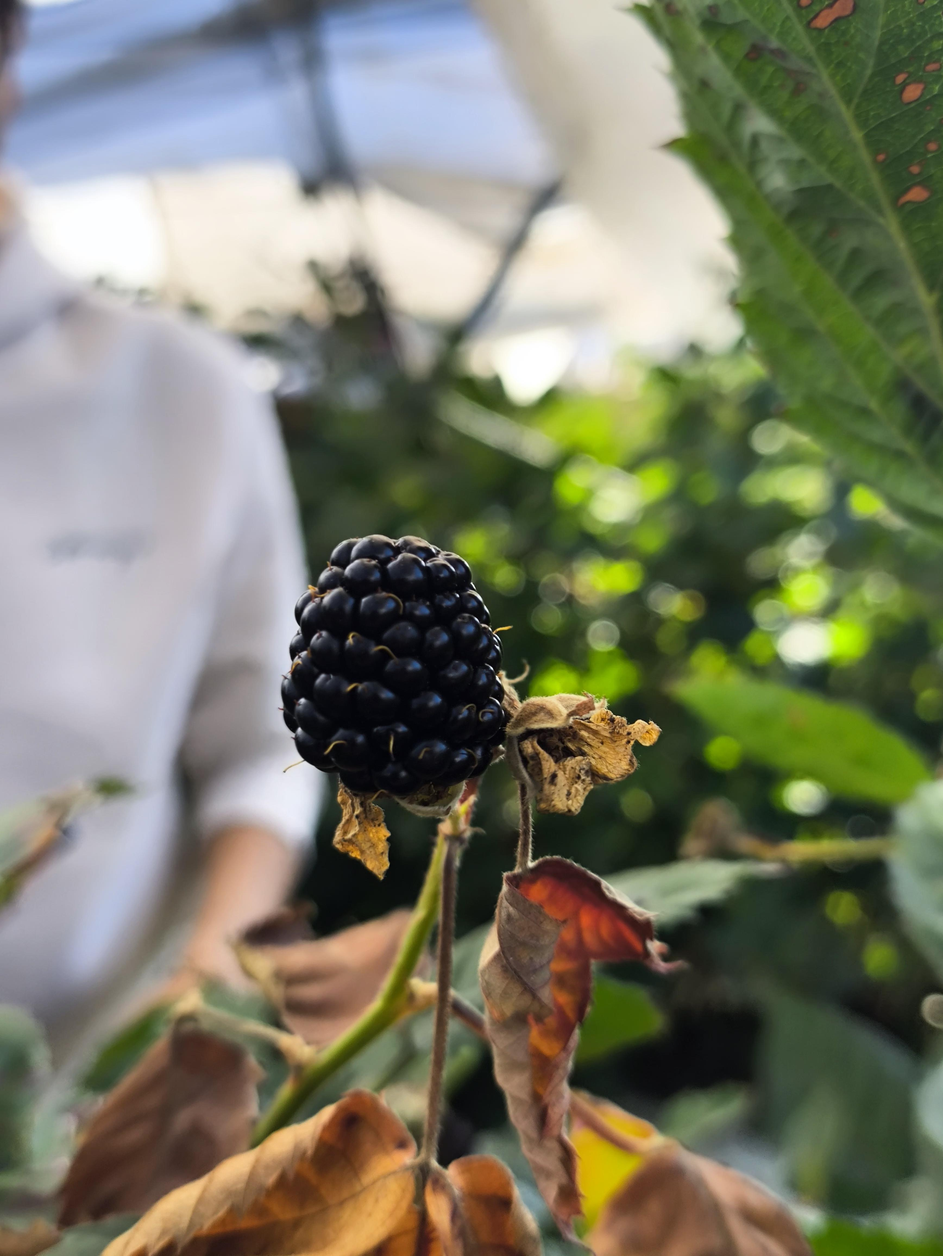maduro: (293, 535, 498, 784)
